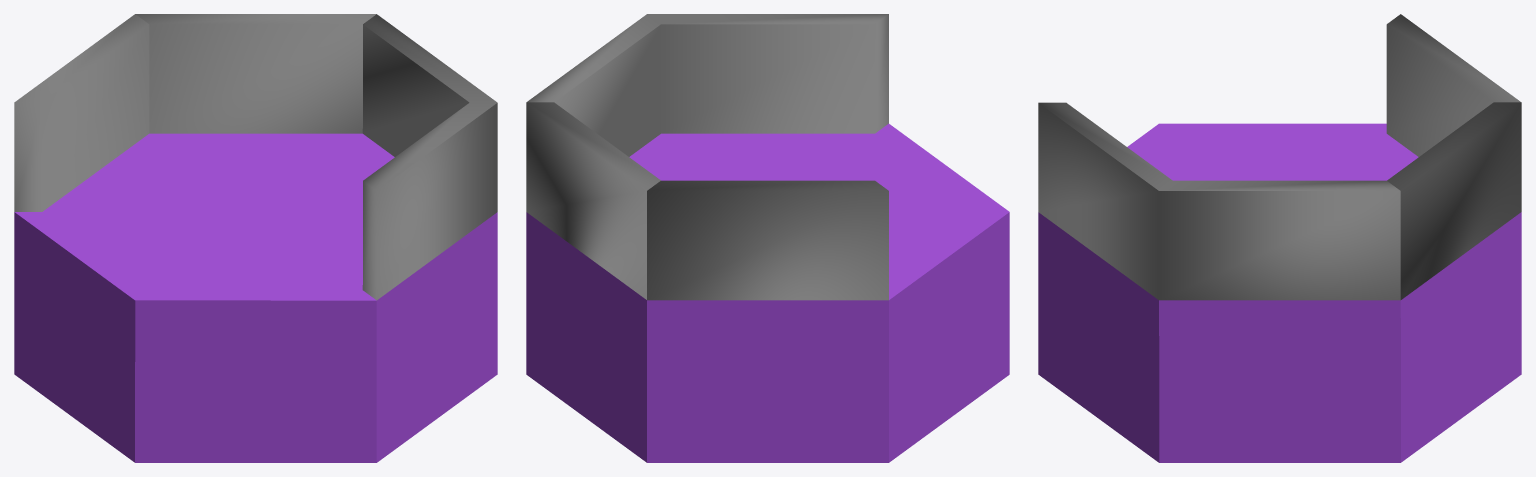
The model's file is NormalTile4WallStage3.fbx.
The picture shows the model from 3 angles, left to right: view 1: azimuth 30°, elevation 25°; view 2: azimuth 150°, elevation 25°; view 3: azimuth 270°, elevation 25°; orthographic projection.
Visible parts, largest first — view 1: NormalTile4WallStage3; view 2: NormalTile4WallStage3; view 3: NormalTile4WallStage3.
Boxes of the visible parts, x1=… form: NormalTile4WallStage3: x1=14, y1=14, x2=497, y2=462; NormalTile4WallStage3: x1=526, y1=14, x2=1009, y2=462; NormalTile4WallStage3: x1=1038, y1=14, x2=1521, y2=462.
Size of the model in its own units: 173 by 124 by 200.
